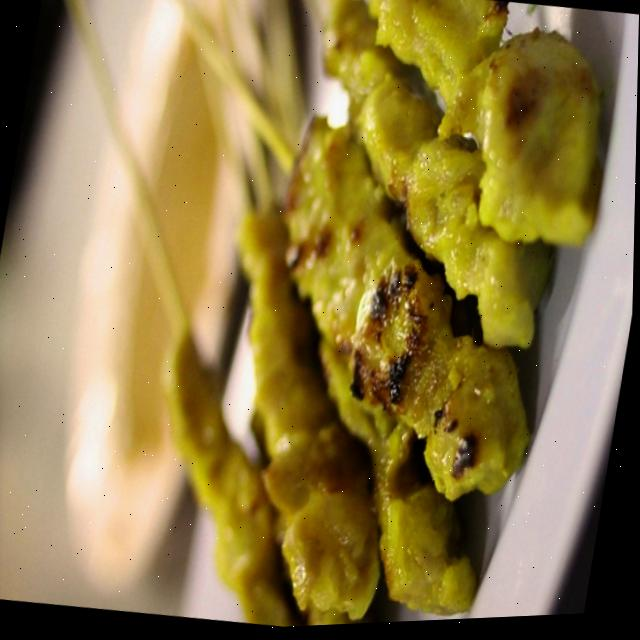牛肉菜式: (103, 0, 640, 636)
